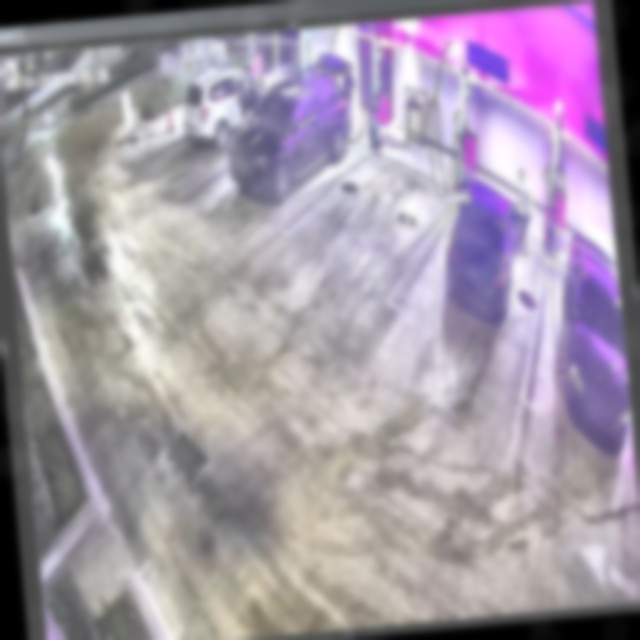Car: (221, 53, 359, 206), (437, 177, 527, 325), (178, 61, 282, 149)
